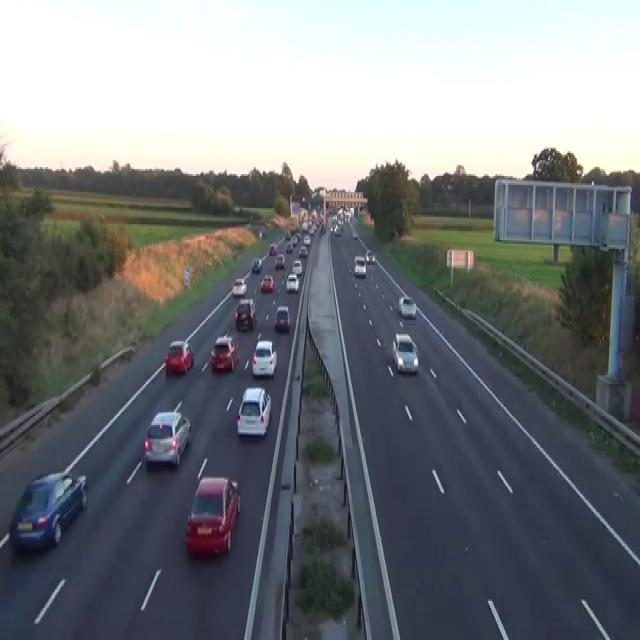Car: (9, 471, 88, 553), (184, 475, 240, 558), (143, 410, 191, 468), (236, 386, 271, 437), (391, 332, 419, 373), (210, 334, 239, 372), (164, 339, 194, 374), (251, 339, 277, 377), (234, 297, 256, 331), (398, 294, 416, 318), (274, 304, 290, 331), (231, 277, 247, 297), (285, 272, 299, 292), (353, 256, 366, 277), (260, 274, 274, 292), (274, 252, 285, 268), (291, 260, 302, 276), (251, 256, 261, 272), (365, 249, 375, 263), (298, 245, 307, 256), (269, 242, 276, 254), (284, 229, 291, 240), (303, 235, 310, 245), (285, 242, 292, 252), (231, 249, 238, 259), (334, 226, 342, 234), (233, 204, 240, 213), (291, 235, 297, 245), (302, 221, 308, 231), (308, 226, 315, 234), (446, 183, 454, 190), (352, 230, 358, 238), (295, 231, 300, 240), (329, 222, 333, 231), (258, 230, 262, 238)
